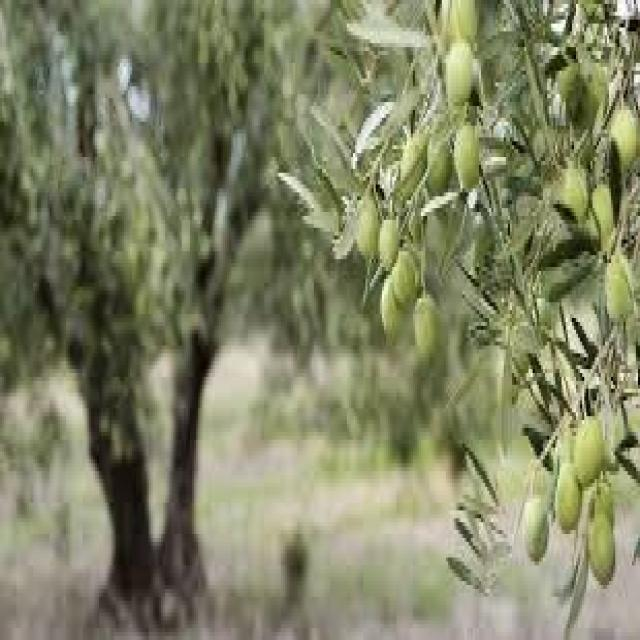Healthy: (574, 416, 605, 485), (519, 492, 549, 560), (553, 463, 583, 530), (587, 514, 615, 585), (412, 293, 441, 359), (454, 123, 479, 193)
